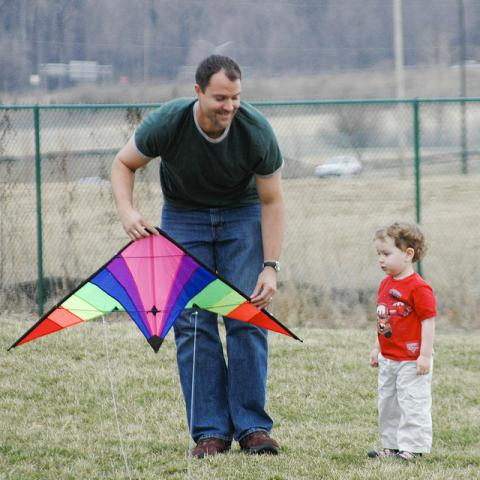car: (314, 155, 364, 178), (77, 176, 110, 182)
